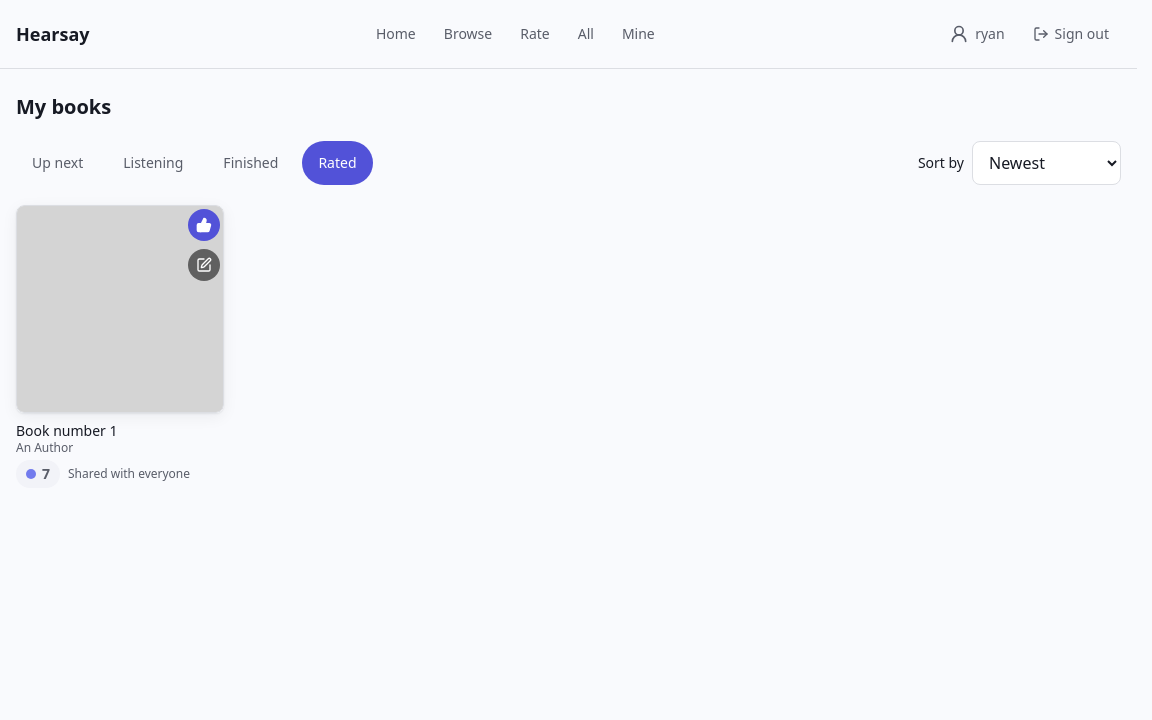
Test case: the my-ratings screen › flips back and says so when the server refuses
Click the button named "Recommend Book number 1" at x=204, y=225, box [184, 205, 224, 245]
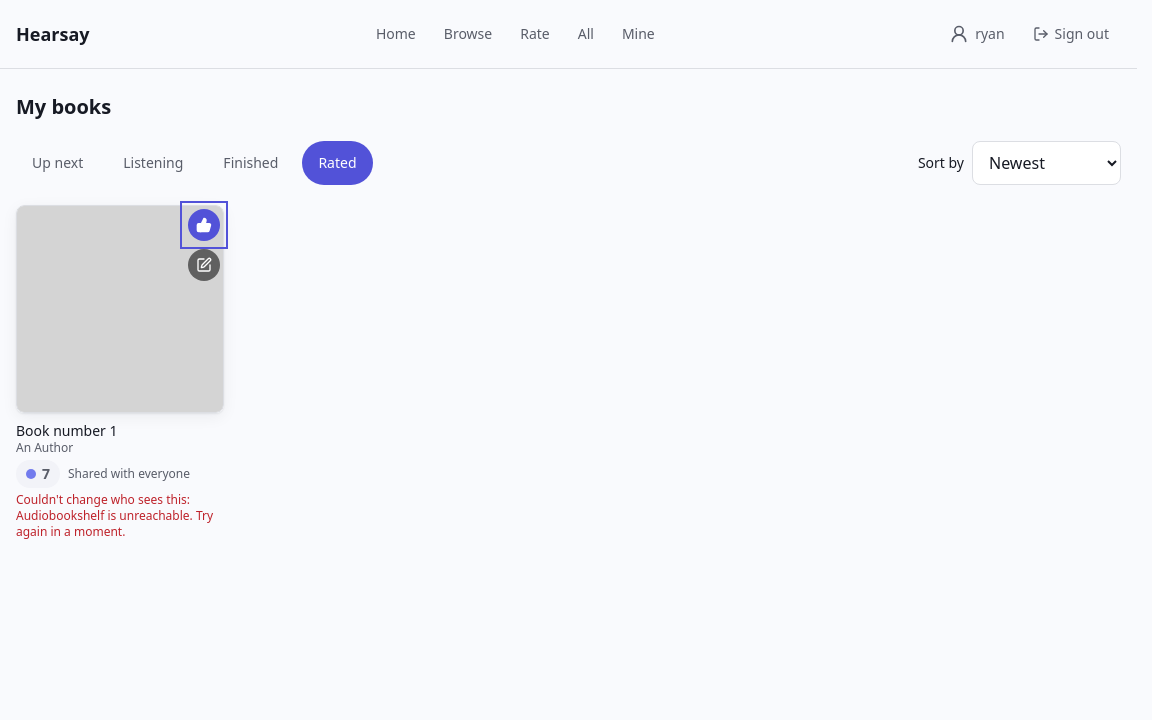
Expected: the text "Shared with everyone" is shown, [68, 466, 190, 482]
Expected: the message shows "Couldn't change who sees this: Audiobookshelf is unreachable", [16, 492, 224, 540]
